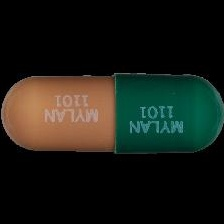51079-630: (0, 0, 224, 224)
